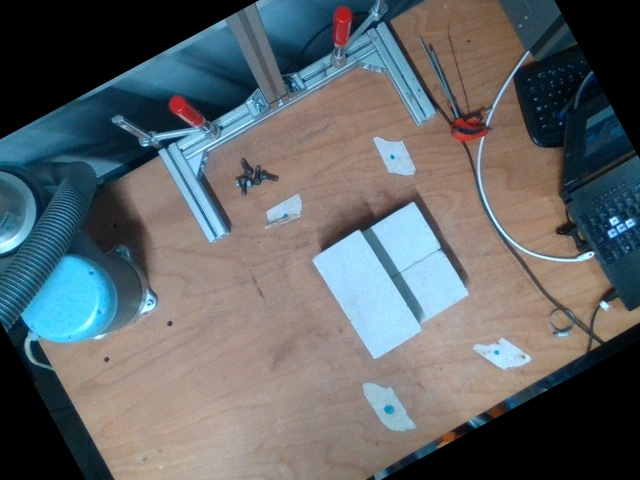brick: (313, 230, 423, 358)
